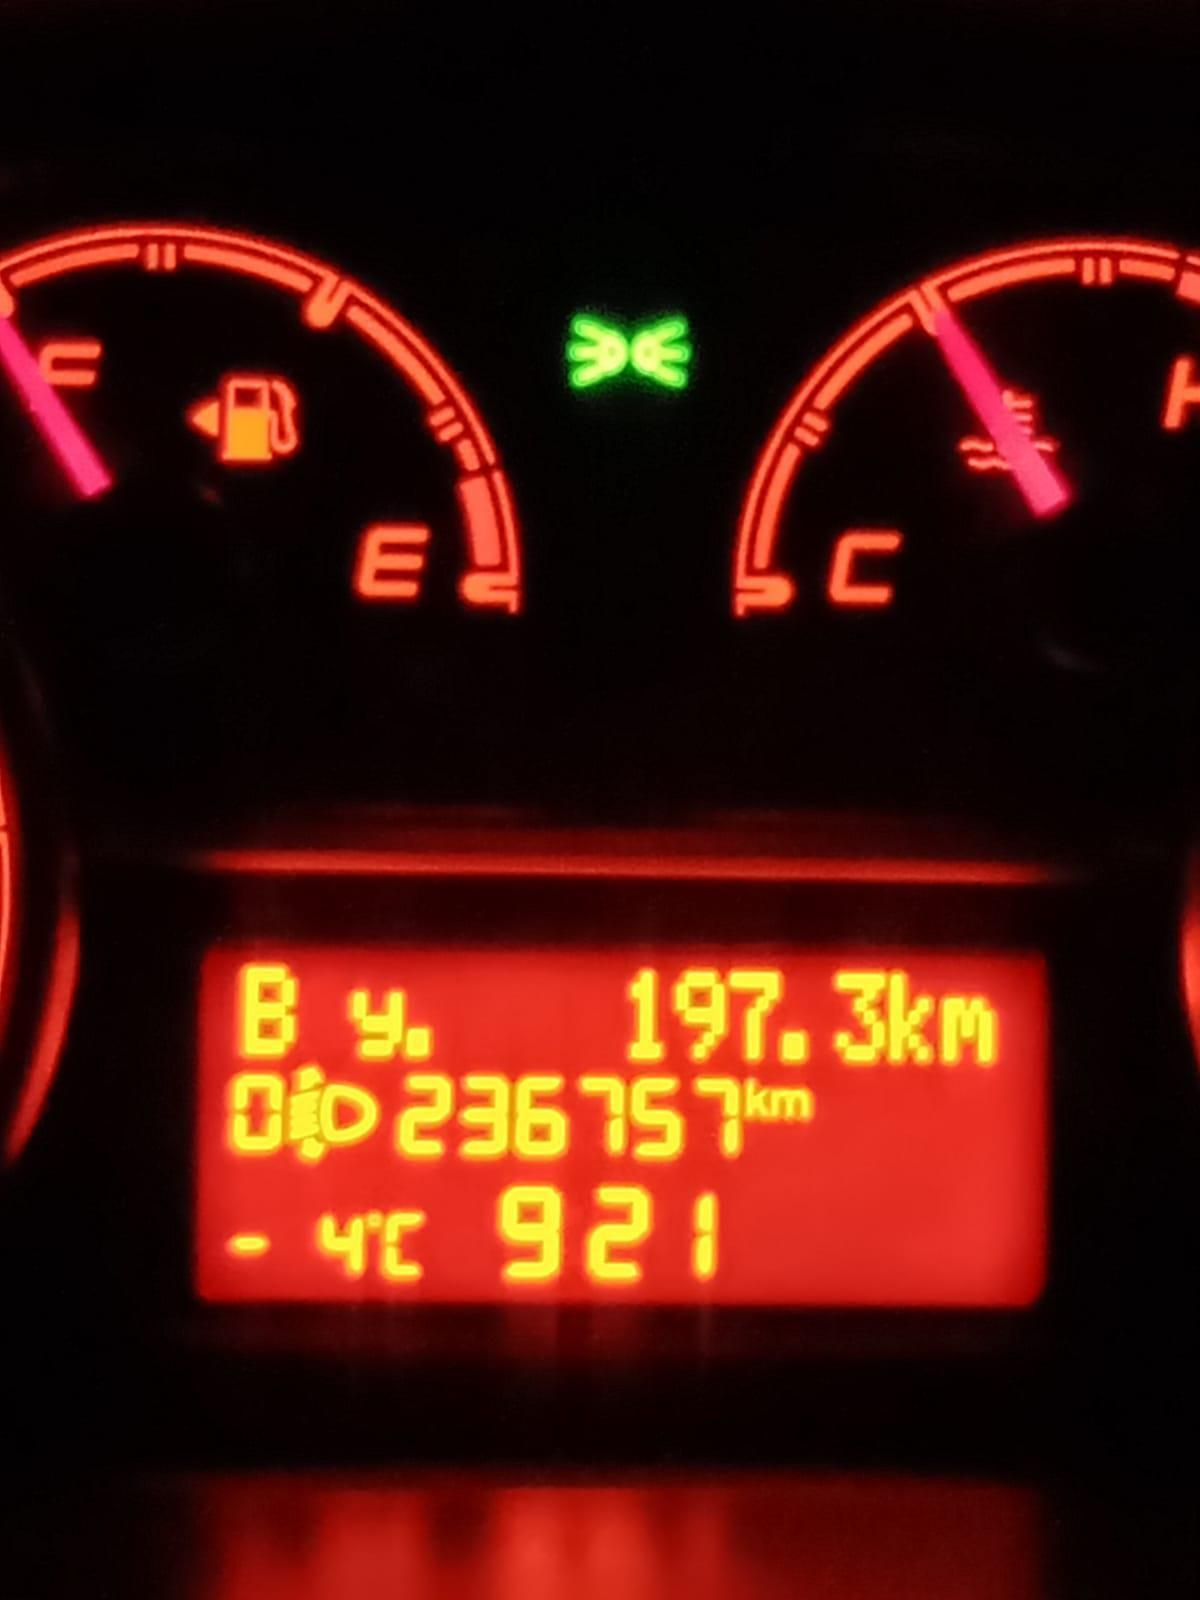,: (776, 1029, 811, 1065), (403, 1026, 434, 1060)
0: (228, 1071, 285, 1151)
1: (625, 968, 663, 1062), (693, 1188, 717, 1285)
2: (584, 1184, 654, 1283), (395, 1072, 453, 1158)
3: (829, 969, 889, 1066), (456, 1073, 509, 1159)
4: (313, 1211, 366, 1283)
5: (629, 1075, 684, 1158)
6: (511, 1073, 570, 1158)
7: (726, 968, 784, 1066), (691, 1072, 745, 1159), (576, 1073, 626, 1155)
9: (493, 1183, 563, 1283), (671, 968, 729, 1066)
X: (238, 963, 299, 1060), (886, 970, 937, 1066), (939, 994, 998, 1065), (348, 986, 405, 1060), (379, 1209, 427, 1279), (769, 1089, 814, 1120), (742, 1078, 769, 1120)
odometer: (182, 934, 1065, 1320)
